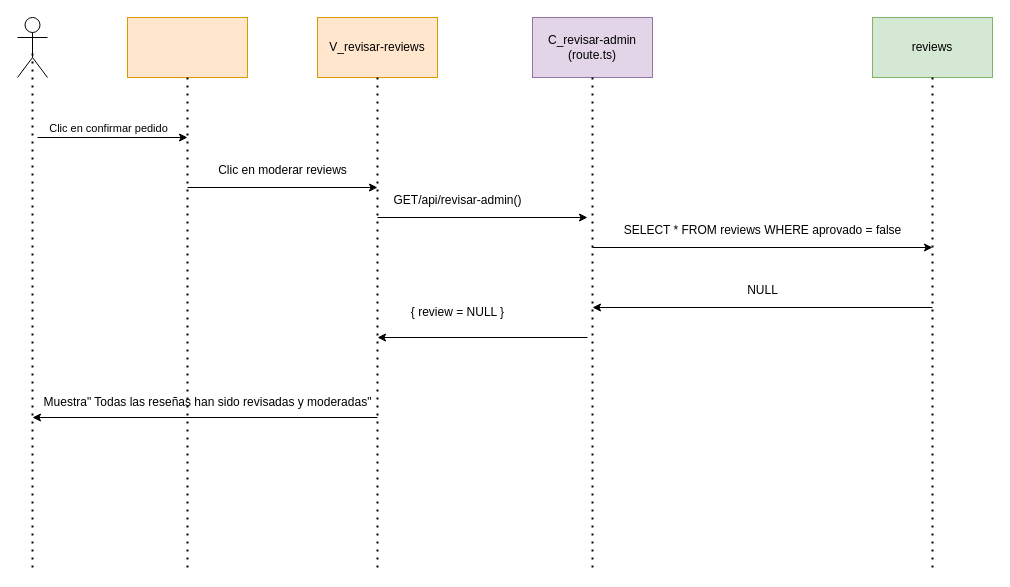
Some shapes in this 1010 by 587 pixel diagram are drawn without their labels. Each missing label, with the centre of its shape:
"Actor" goes at [32,47].
"V_pagina-admin" goes at [187,47].
